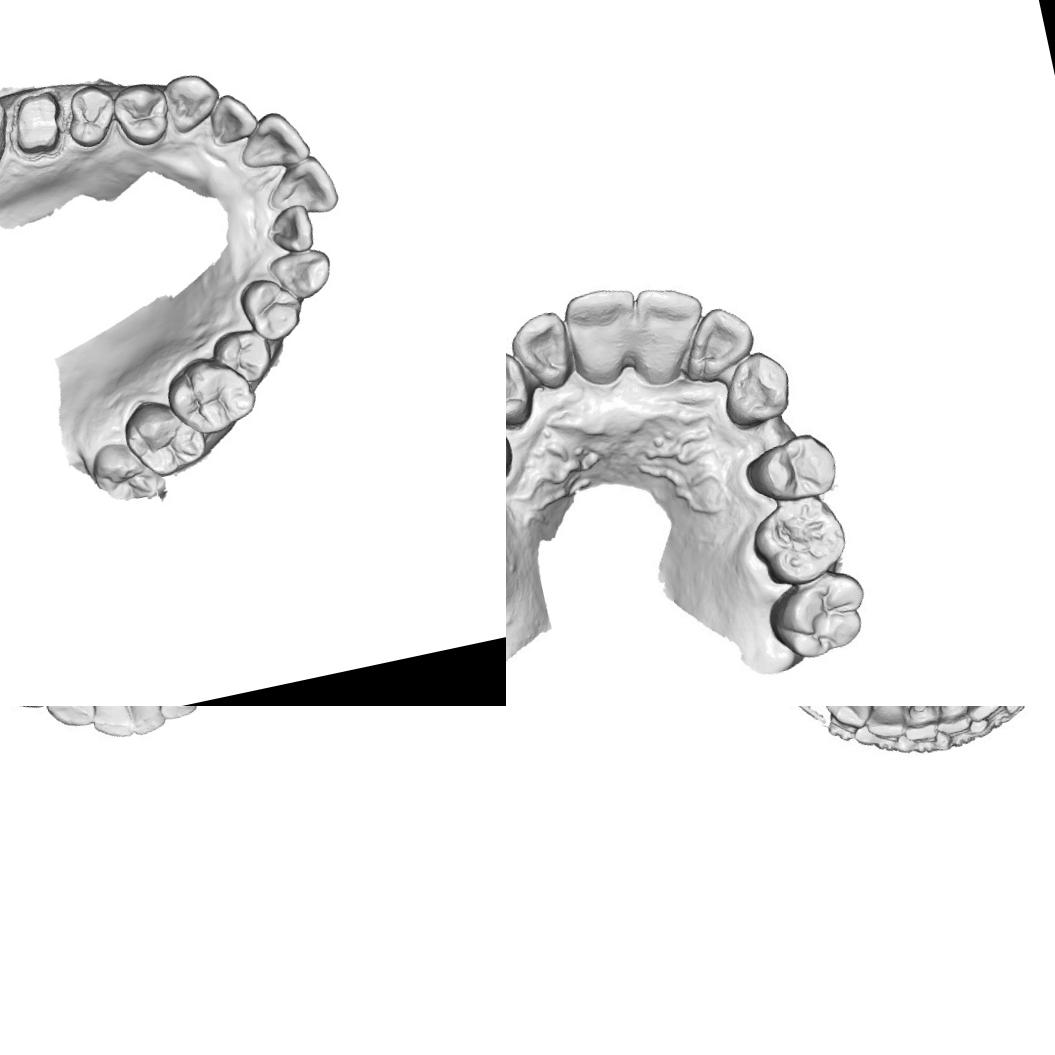canine: (710, 341, 800, 436), (158, 68, 228, 140), (265, 244, 336, 305), (506, 344, 539, 436), (39, 706, 97, 732), (820, 706, 879, 728)
crown: (0, 84, 74, 166)
incisor: (621, 276, 715, 373), (556, 280, 648, 379), (678, 298, 763, 385), (506, 306, 579, 398), (260, 152, 342, 224), (233, 105, 313, 176), (203, 88, 262, 148), (262, 202, 318, 258), (859, 706, 918, 743), (894, 706, 944, 746), (85, 706, 138, 737), (116, 706, 169, 736), (929, 706, 980, 735), (959, 706, 1011, 720)
molar: (760, 566, 878, 670), (742, 488, 856, 592), (160, 346, 263, 442), (118, 389, 212, 483), (86, 432, 170, 513)
premolar: (736, 425, 846, 512), (236, 272, 308, 346), (109, 76, 176, 152), (208, 324, 277, 390), (60, 80, 122, 152)
